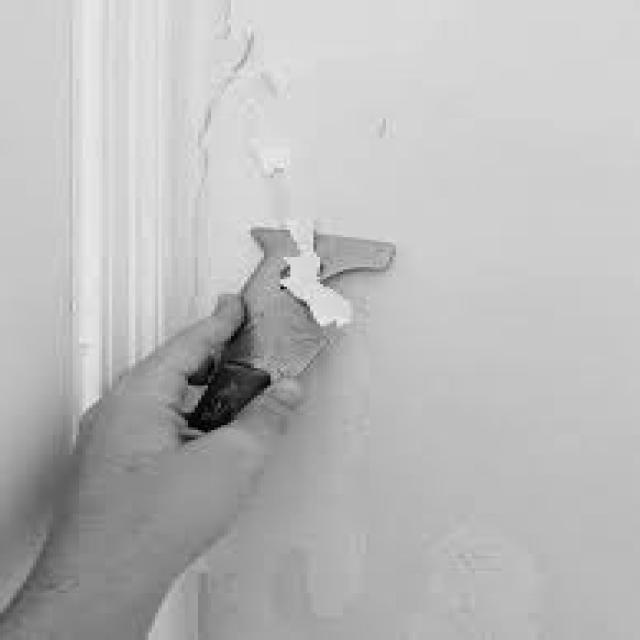peeling paint: (139, 0, 640, 640)
